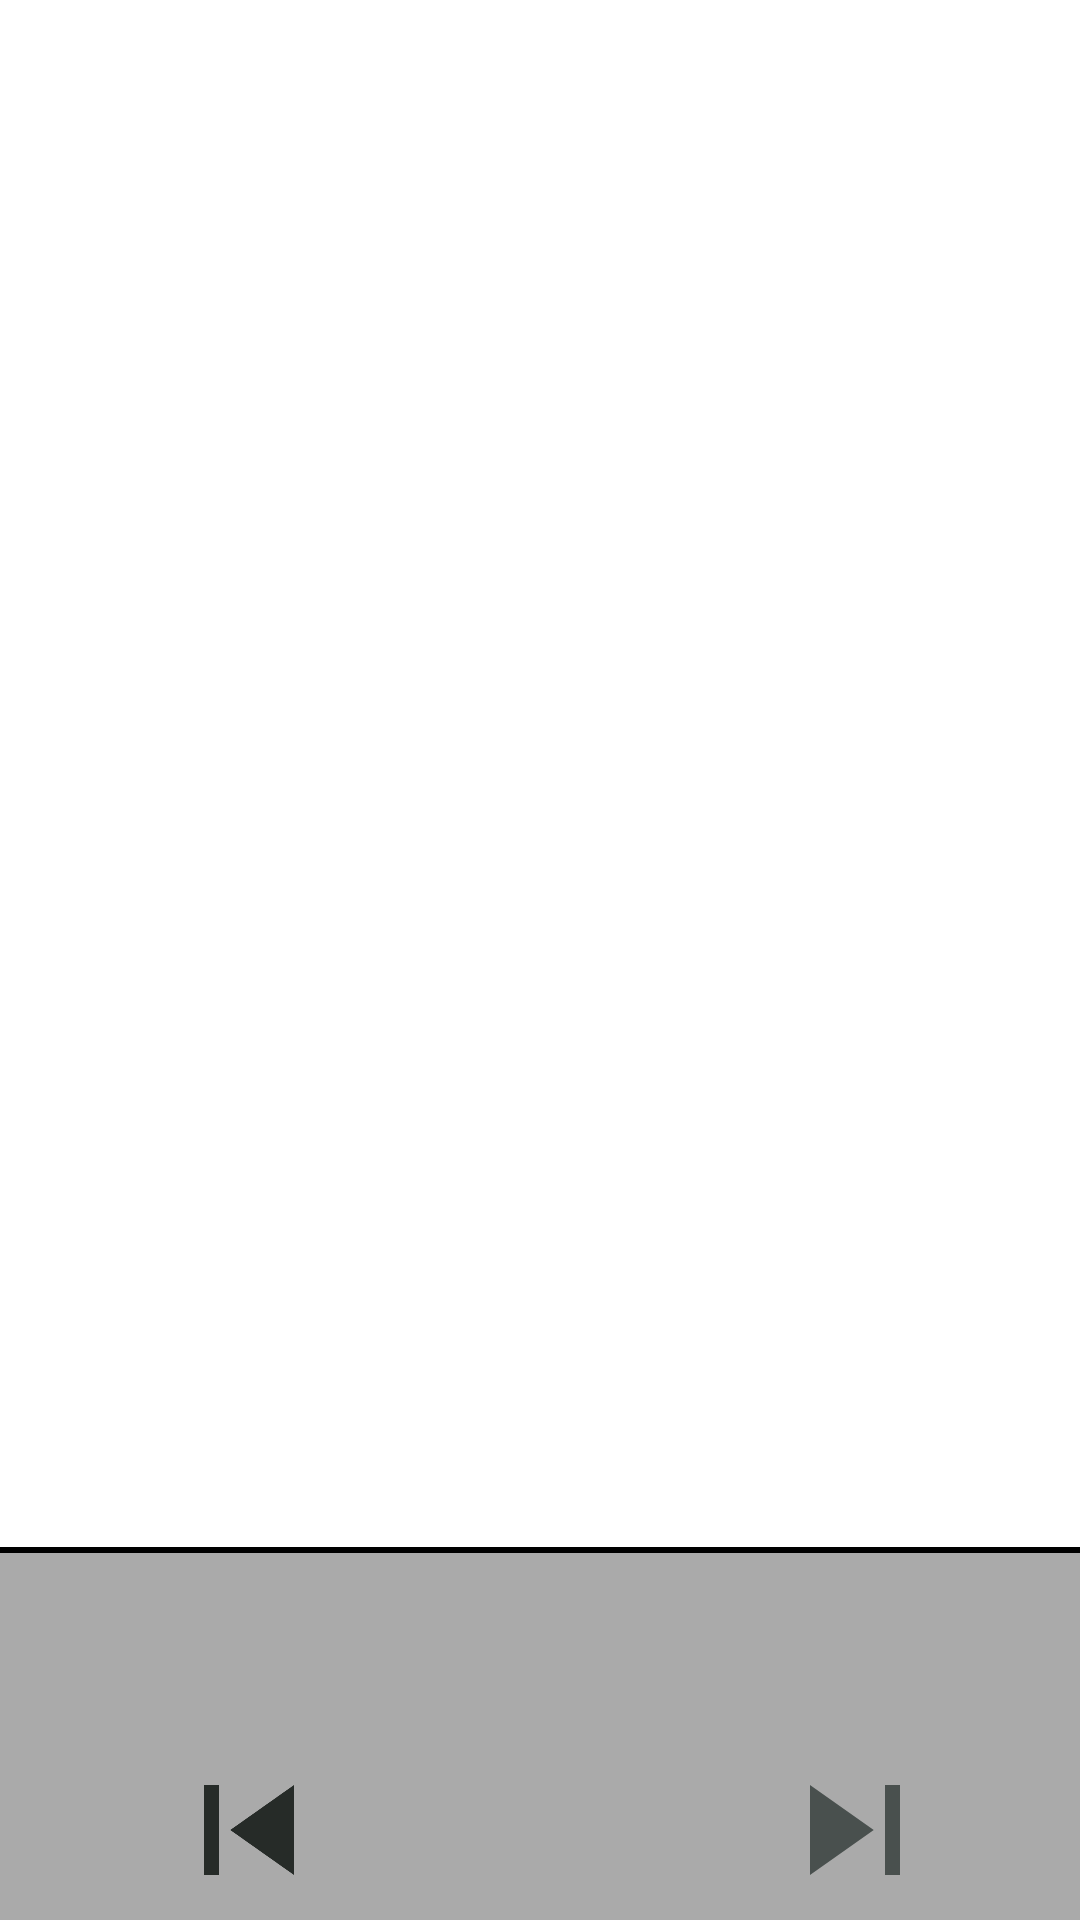

Icons on this 1080px×1920px Android screen, each with its box as (left=x1, top=y1, right=x2, bottom=y2):
skip next: (left=810, top=1785, right=900, bottom=1875)
skip previous: (left=204, top=1785, right=294, bottom=1875)
